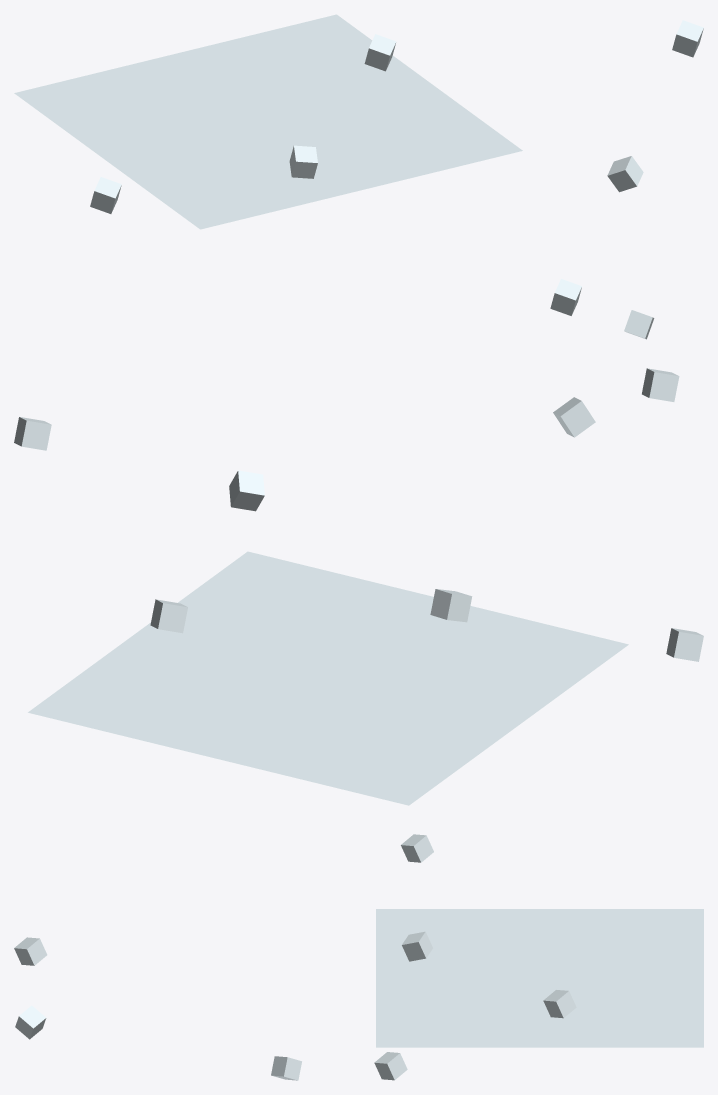
3 renders of one model, top to bottom at view 1: azimuth 30°, elevation 25°; view 2: azimuth 150°, elevation 25°; view 3: azimuth 270°, elevation 25°, orthographic. The views are drawn at different scales.
Visible parts, largest first — view 1: cube (×8); view 2: cube (×8); view 3: cube (×8).
Boxes of the visible parts, x1,y1,x2,y2 form: cube (×8): [14, 14, 703, 339]; cube (×8): [14, 368, 703, 805]; cube (×8): [14, 834, 703, 1080].
Size of the model in its own units: 28.55 by 4.83 by 32.61.
Materials: 1 (1 with a texture image).
